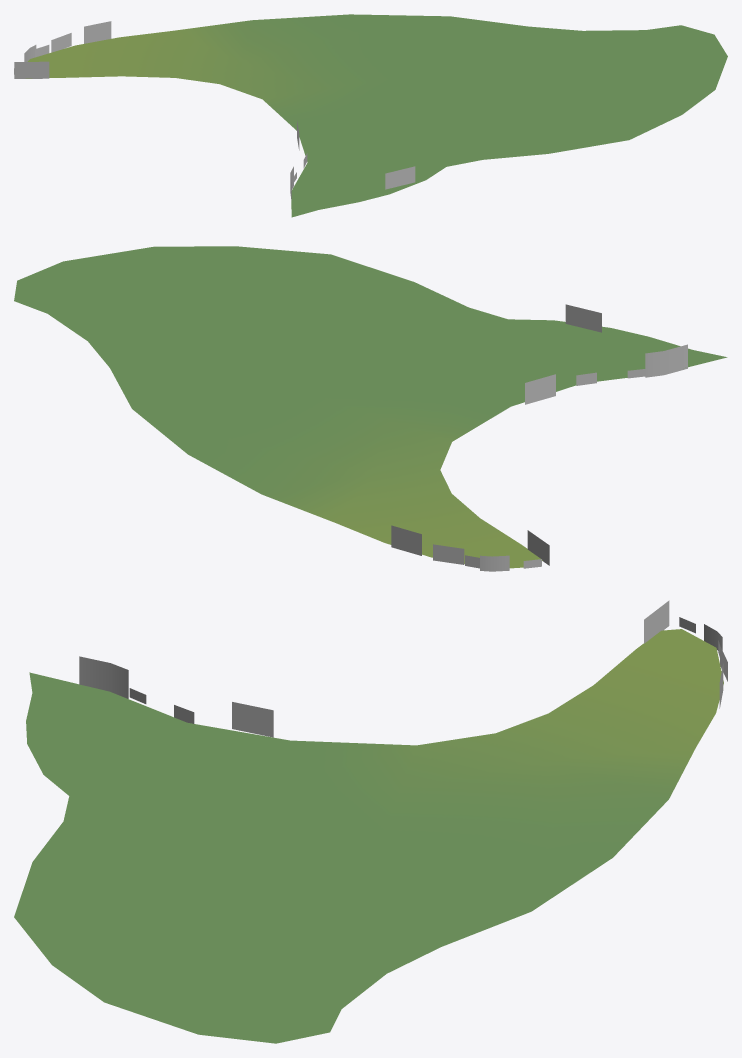
File: Mesh_Battle_Forest_Ground_07.FBX
The picture shows the model from 3 angles, top to bottom: view 1: azimuth 30°, elevation 25°; view 2: azimuth 150°, elevation 25°; view 3: azimuth 270°, elevation 25°; orthographic projection. The views are drawn at different scales.
Parts seen in each view (by area): view 1: Mesh_Battle_Forest_Ground_07, Mesh_Battle_Forest_Grass_06; view 2: Mesh_Battle_Forest_Ground_07, Mesh_Battle_Forest_Grass_06; view 3: Mesh_Battle_Forest_Ground_07, Mesh_Battle_Forest_Grass_06.
Boxes of the visible parts, x1,y1,x2,y2 form: Mesh_Battle_Forest_Ground_07: (26, 14, 727, 217); Mesh_Battle_Forest_Grass_06: (14, 21, 415, 200); Mesh_Battle_Forest_Ground_07: (14, 246, 727, 568); Mesh_Battle_Forest_Grass_06: (391, 304, 687, 571); Mesh_Battle_Forest_Ground_07: (14, 629, 723, 1043); Mesh_Battle_Forest_Grass_06: (79, 600, 727, 737).
Bounding box in the file's own units: 684 × 23.37 × 492.
